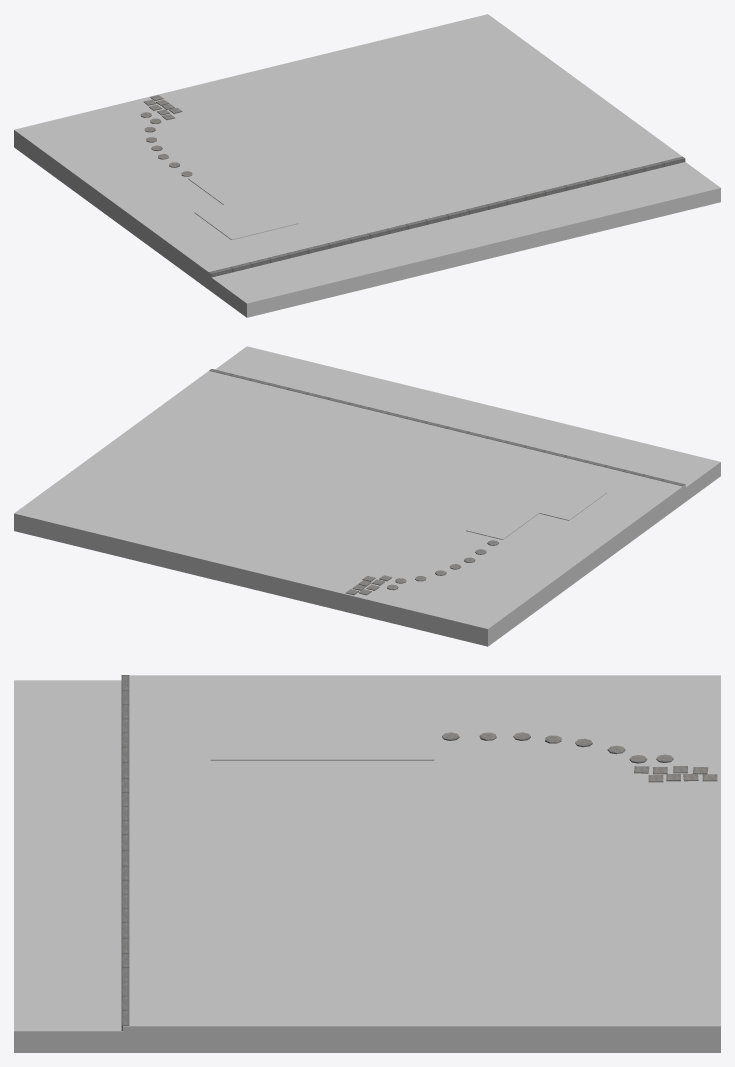
The model's file is OwenGround.fbx.
3 renders of one model, top to bottom at view 1: azimuth 30°, elevation 25°; view 2: azimuth 150°, elevation 25°; view 3: azimuth 270°, elevation 25°, orthographic. The views are drawn at different scales.
Parts seen in each view (by area): view 1: GroundFloor, ConcreteGround, BaseStone, Stepping_Stones; view 2: GroundFloor, ConcreteGround, BaseStone, Stepping_Stones; view 3: GroundFloor, ConcreteGround, BaseStone, Stepping_Stones.
Part boxes in pixels (bbox=[...]): GroundFloor: bbox=[14, 14, 720, 317]; ConcreteGround: bbox=[188, 169, 298, 239]; BaseStone: bbox=[209, 156, 685, 277]; Stepping_Stones: bbox=[140, 95, 192, 176]; GroundFloor: bbox=[14, 346, 720, 646]; ConcreteGround: bbox=[466, 476, 606, 539]; BaseStone: bbox=[209, 369, 685, 487]; Stepping_Stones: bbox=[346, 540, 498, 595]; GroundFloor: bbox=[14, 675, 720, 1052]; ConcreteGround: bbox=[210, 710, 434, 760]; BaseStone: bbox=[121, 675, 129, 1030]; Stepping_Stones: bbox=[442, 732, 717, 782].
Size of the model in its own units: 2826 by 107 by 2406.
